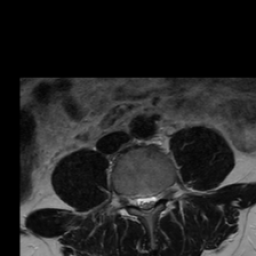CCS_stenosis: (142, 185, 150, 219)
LFS_normal: (157, 182, 166, 207)
LLS_normal: (150, 185, 157, 213)
RFS_normal: (126, 186, 134, 212)
RLS_normal: (134, 187, 142, 213)
